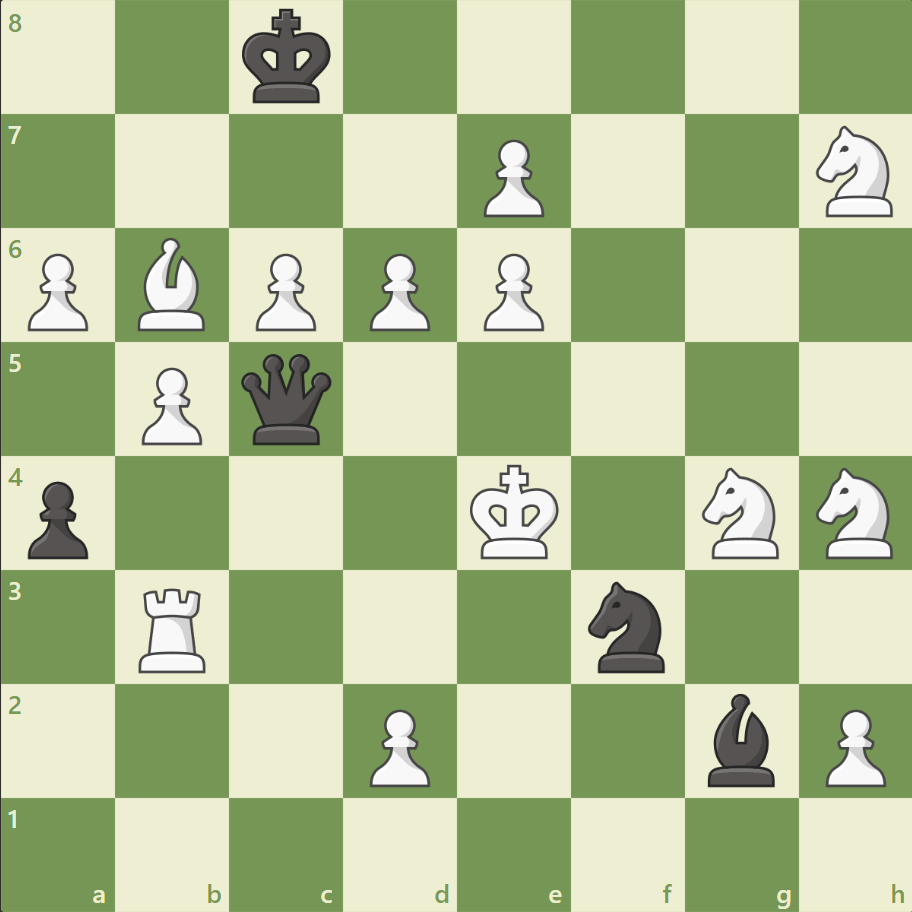B: (131, 233, 215, 336)
K: (465, 458, 565, 566)
N: (692, 461, 789, 564), (806, 461, 903, 564), (806, 121, 903, 223)
P: (474, 132, 549, 223), (20, 246, 95, 337), (247, 246, 322, 337), (474, 246, 549, 337), (133, 359, 208, 450), (361, 246, 435, 337), (361, 700, 435, 791), (815, 700, 889, 791)
R: (133, 579, 215, 676)
b: (698, 687, 782, 790)
k: (238, 4, 338, 112)
n: (579, 575, 676, 677)
p: (20, 473, 95, 564)
q: (237, 349, 336, 449)
